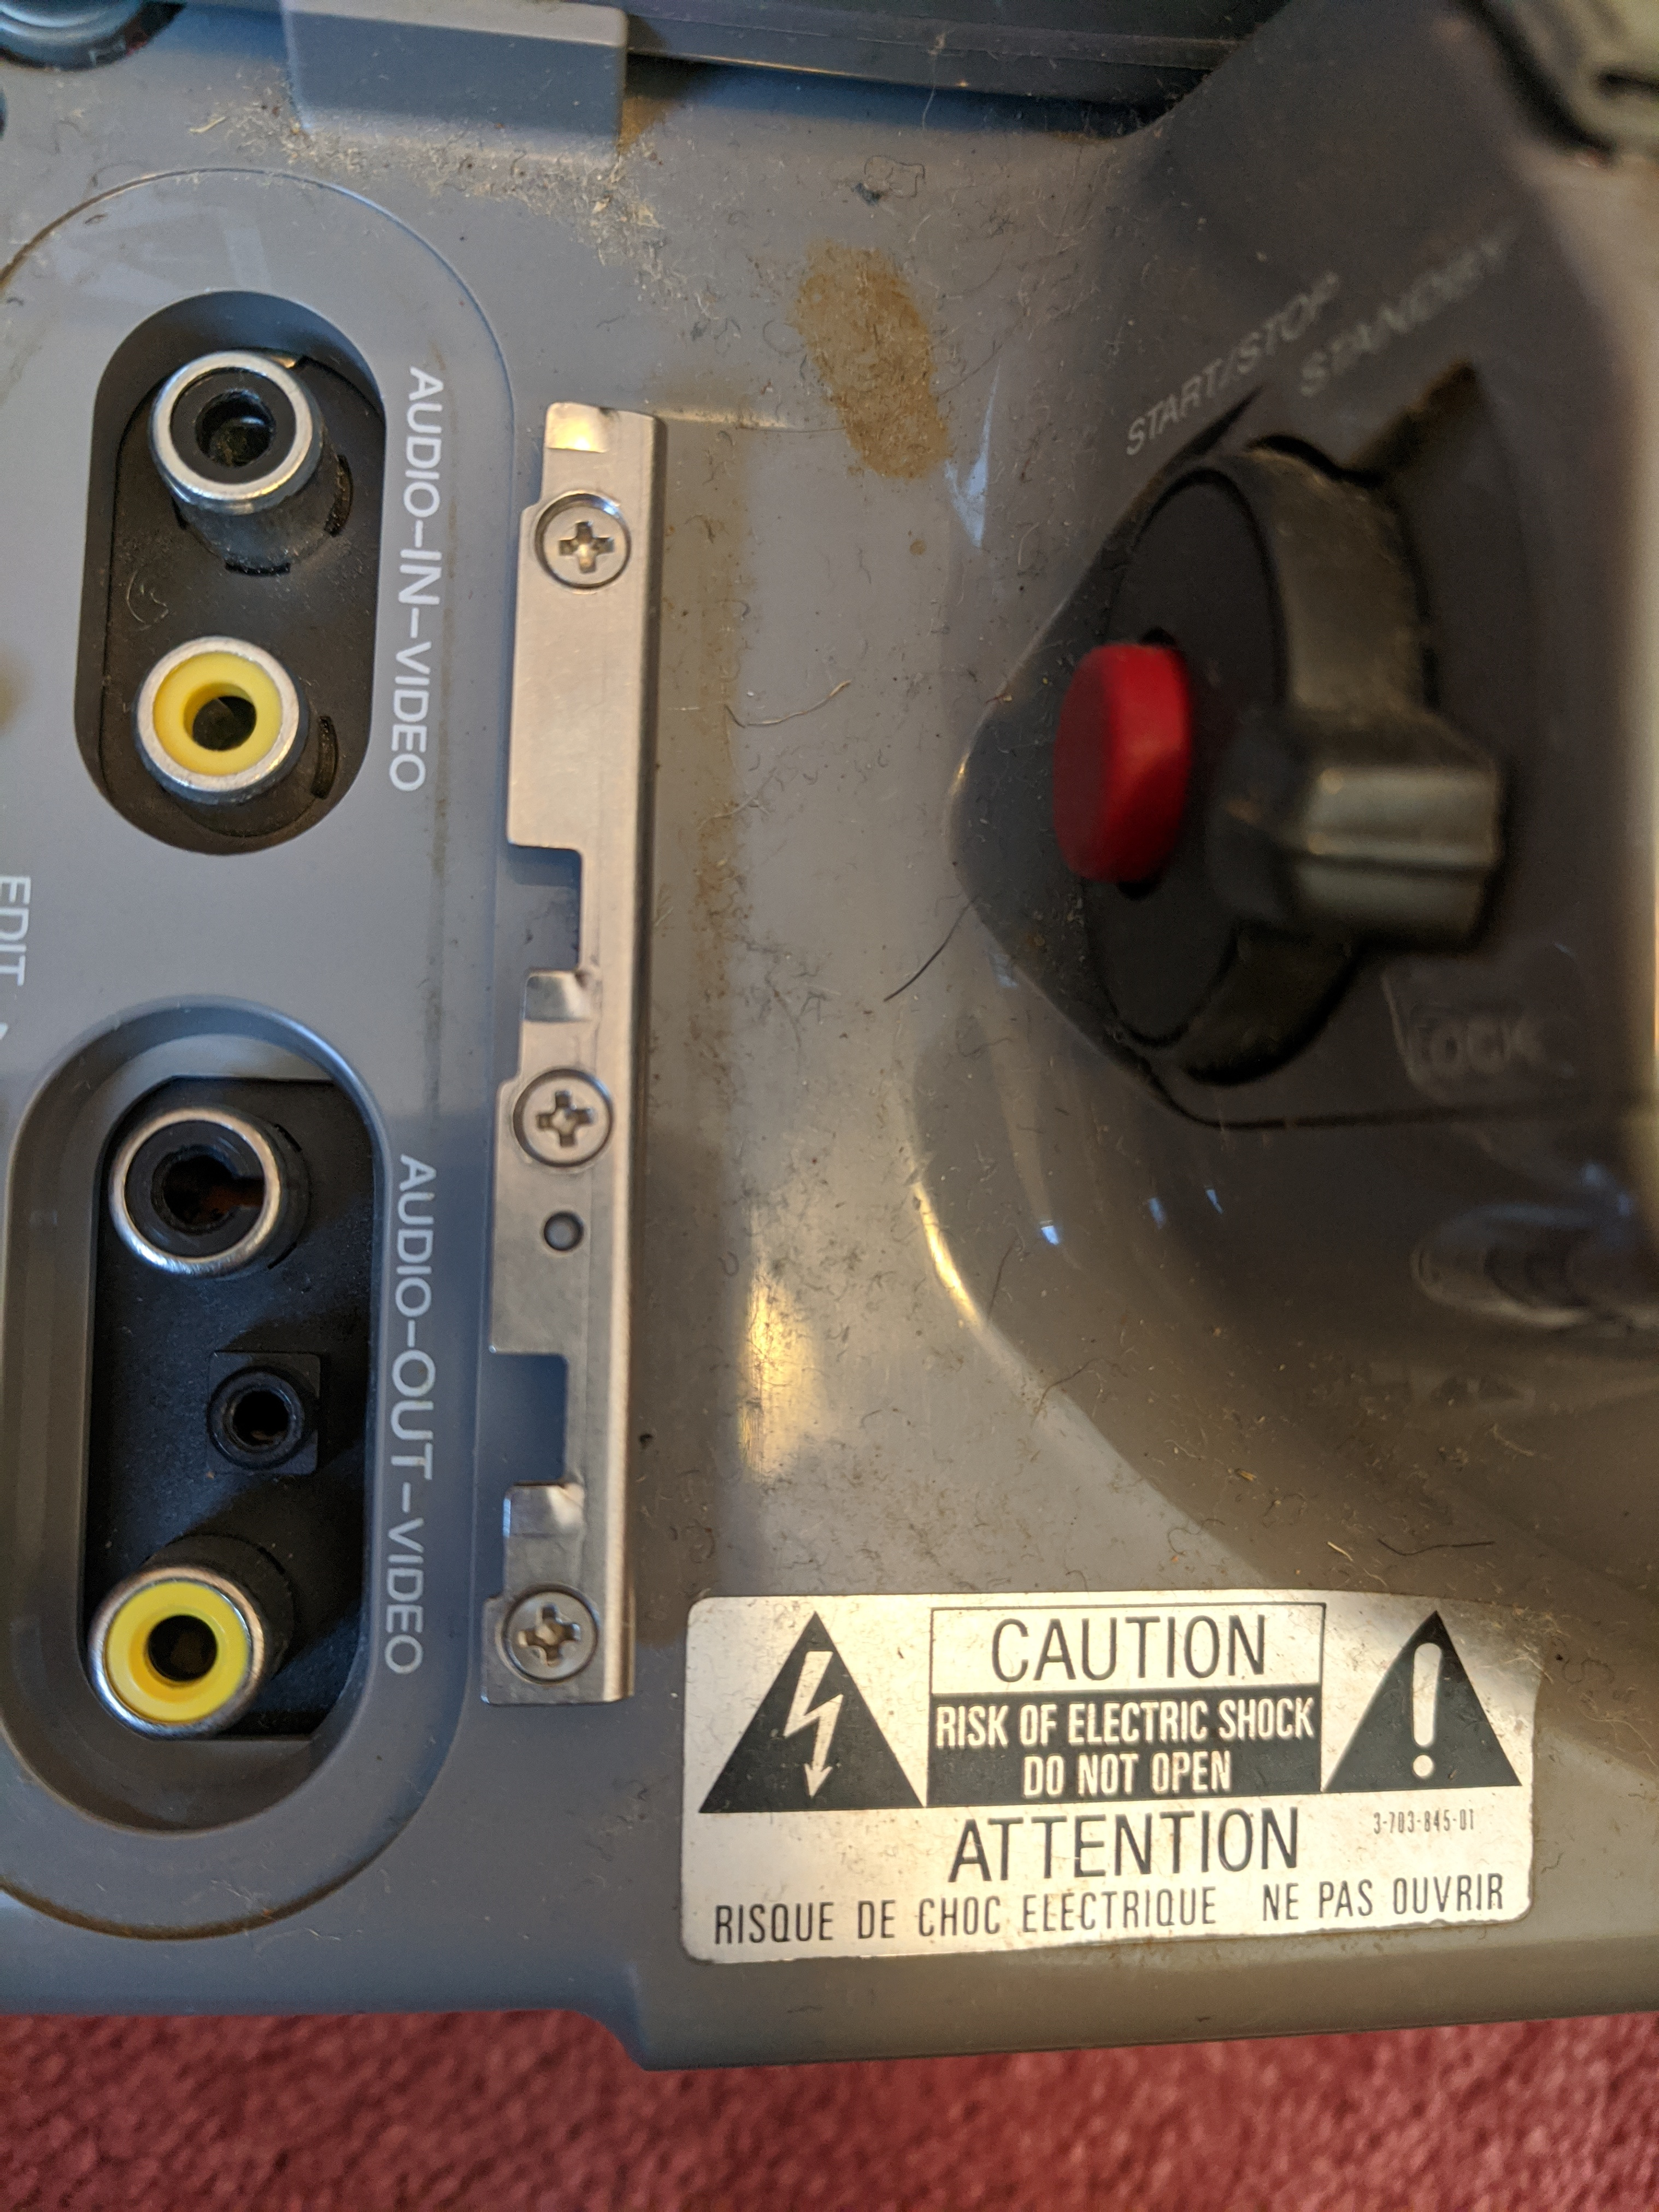cross_recessed_screw: (518, 549, 633, 700), (1122, 1602, 1246, 1738), (1012, 1186, 1131, 1301), (563, 775, 669, 897)
